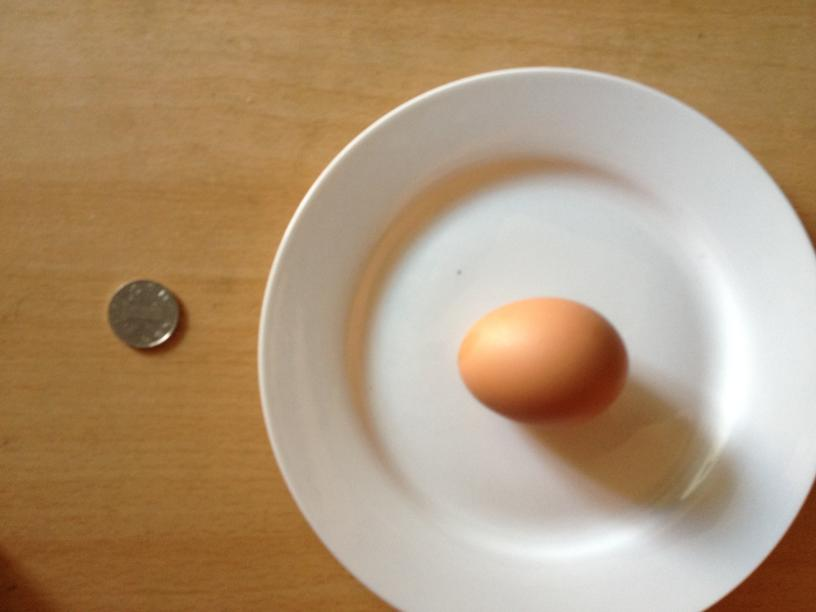coin: (106, 277, 180, 348)
egg: (458, 298, 629, 426)
